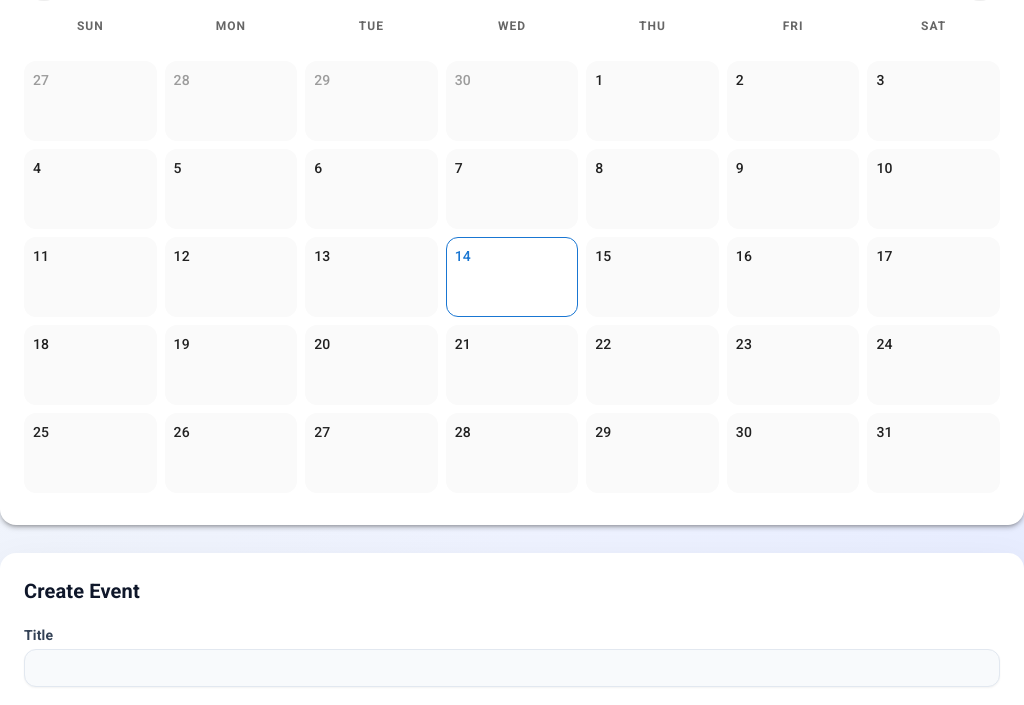
Test: SchedulerPage › shows validation error when form is submitted empty
Note: Clear the title field and submit
Clear the field labelled "Title" at {"x": 512, "y": 668}, box [24,649,1000,687]
(page scrolled)
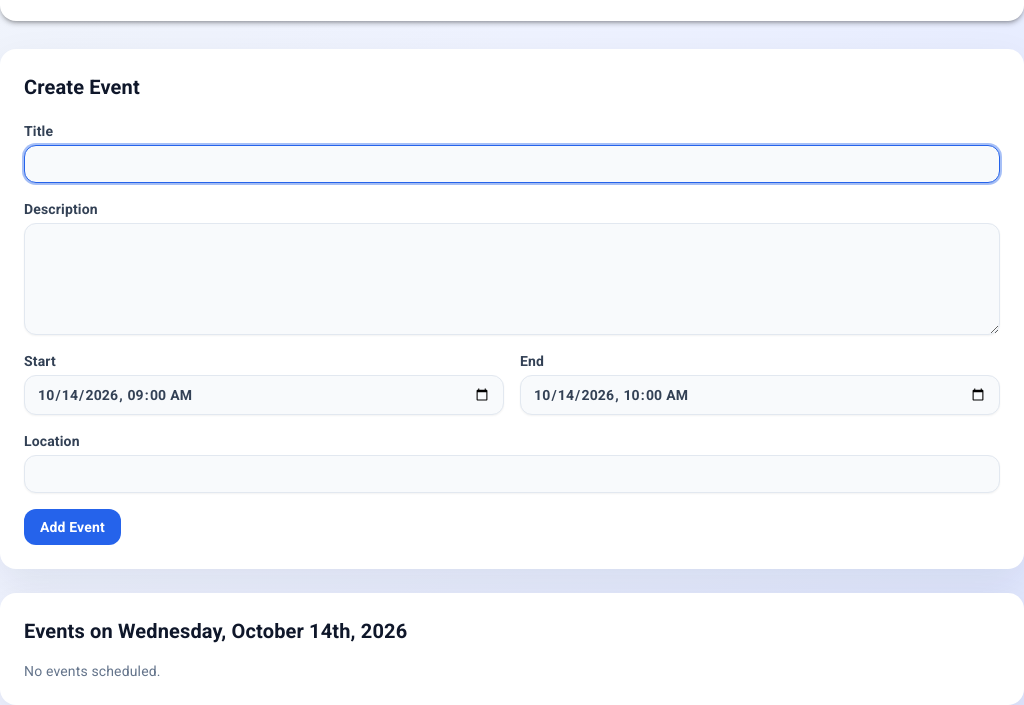
Click the button "Add Event" at {"x": 72, "y": 527}, box [24,509,121,545]
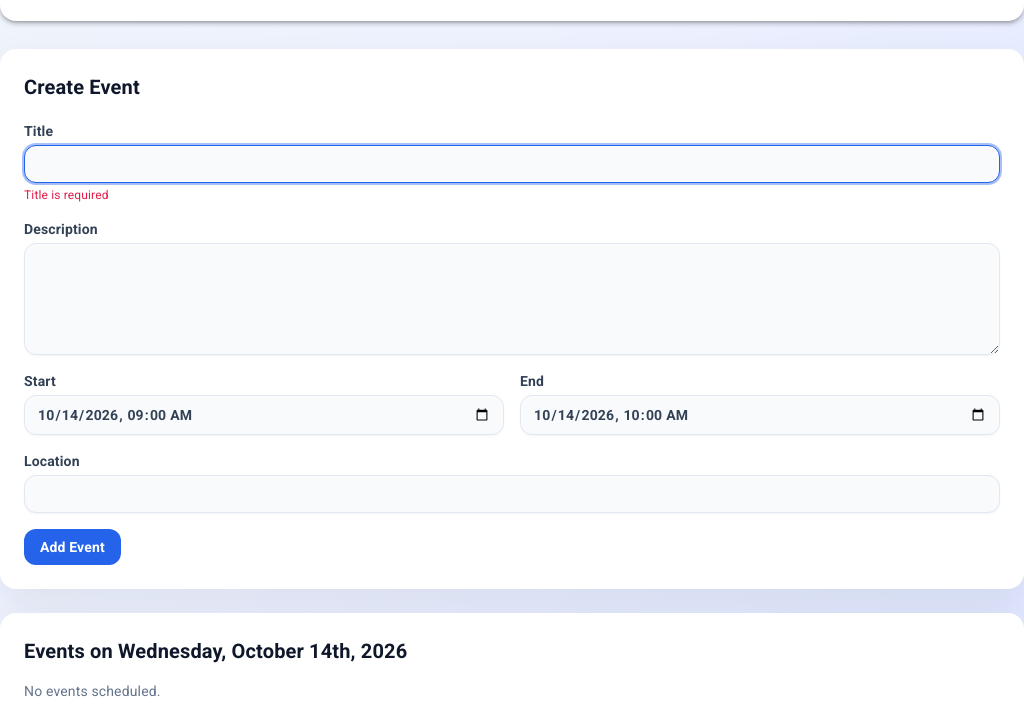
Result: the text "Title is required" is shown at [24,188,109,202]
